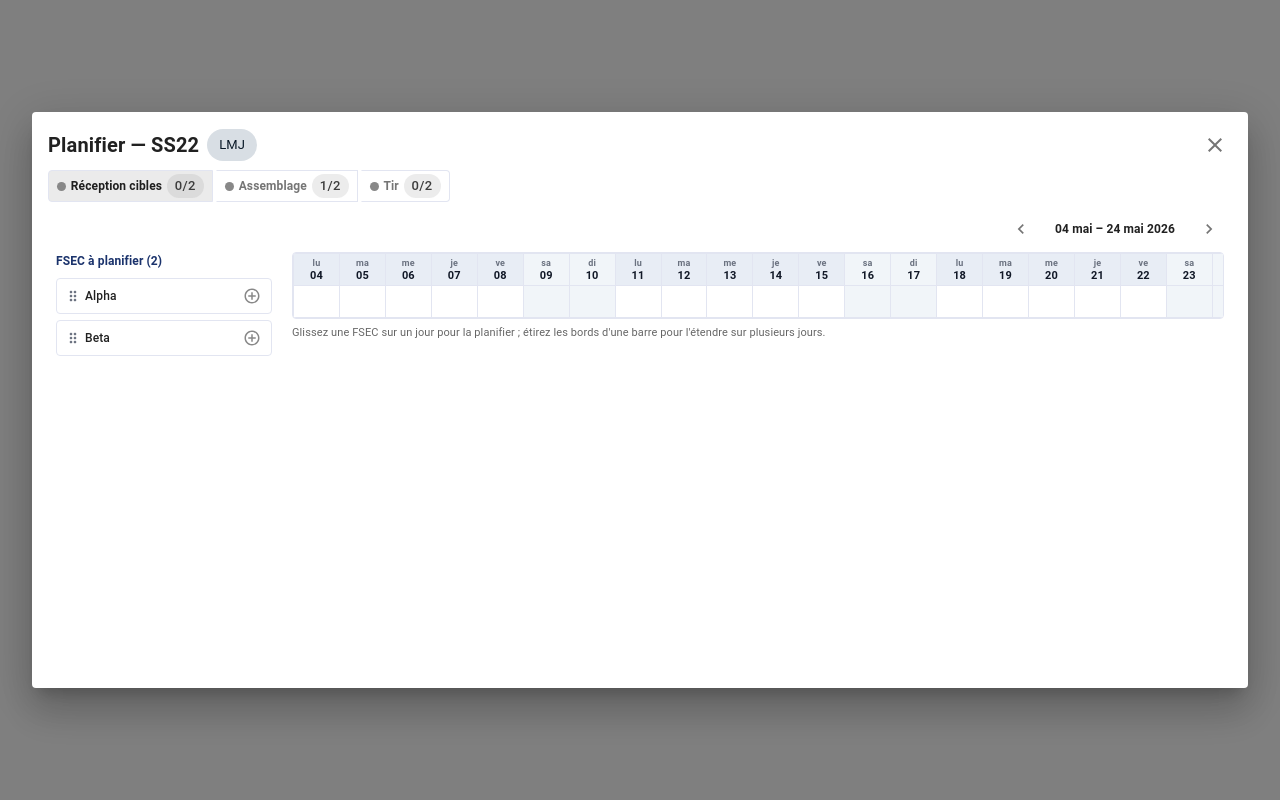
Test: CampaignStepDialog › switching tab reloads palette + board (Assemblage: Alpha scheduled, Beta left)
Click the button "Assemblage 1/2" at [287, 186], box [216,170,358,202]
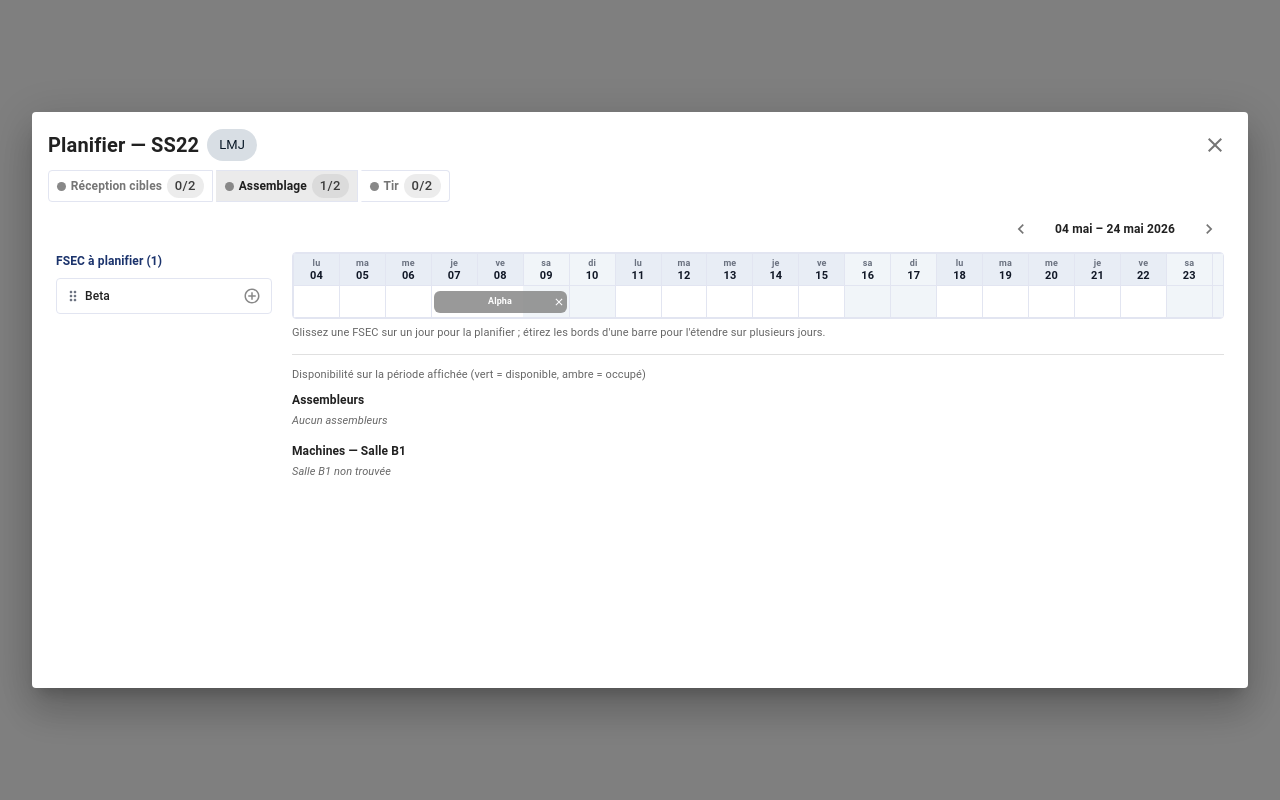
Expected: the text "Beta" is shown, [85,289,110,303]
Expected: the text "FSEC à planifier (1)" is shown, [56,254,162,268]
Expected: the button named "Supprimer Alpha" is shown, [553,296,565,308]
